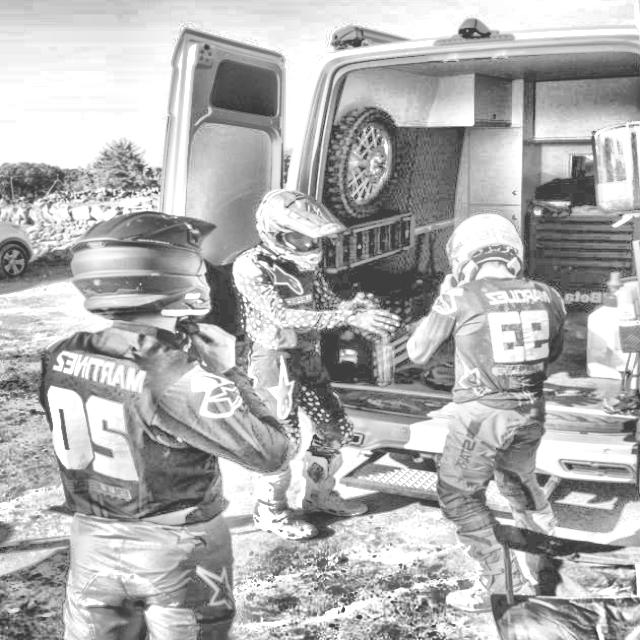Helmet: (442, 210, 528, 290)
